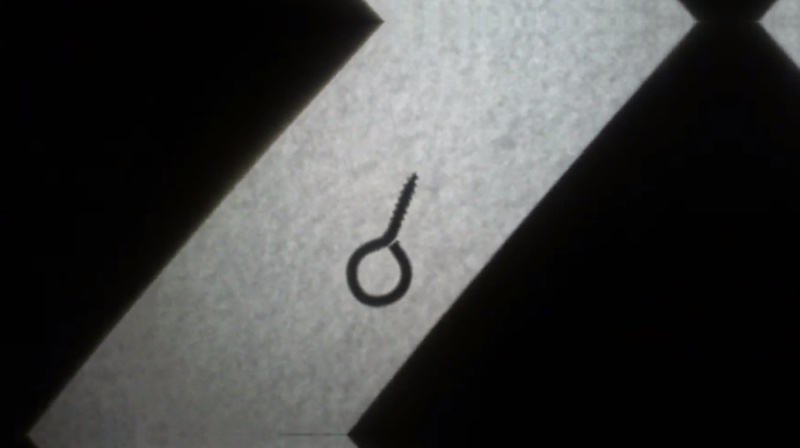O001: (341, 169, 421, 309)
